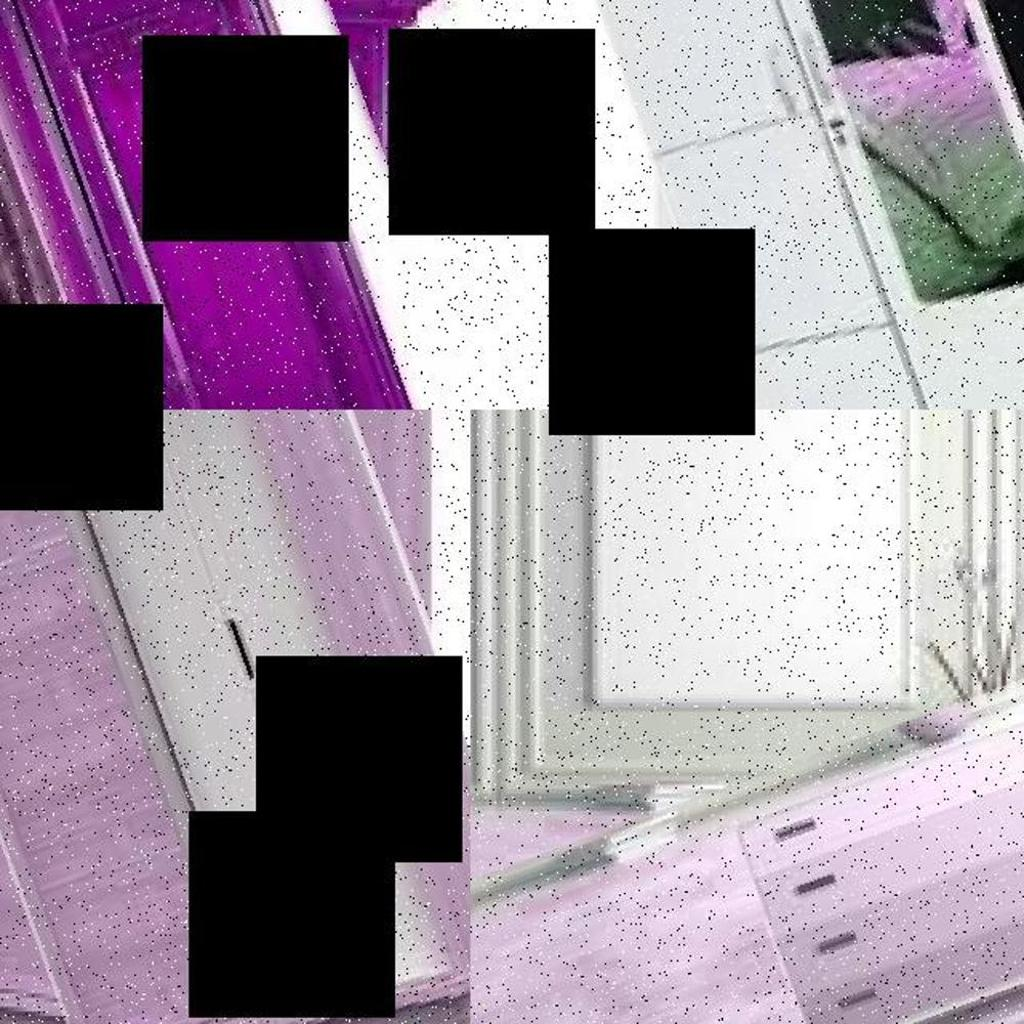cabinet: (0, 410, 470, 1024), (0, 0, 470, 410), (574, 0, 1024, 410), (470, 725, 1024, 1024)
